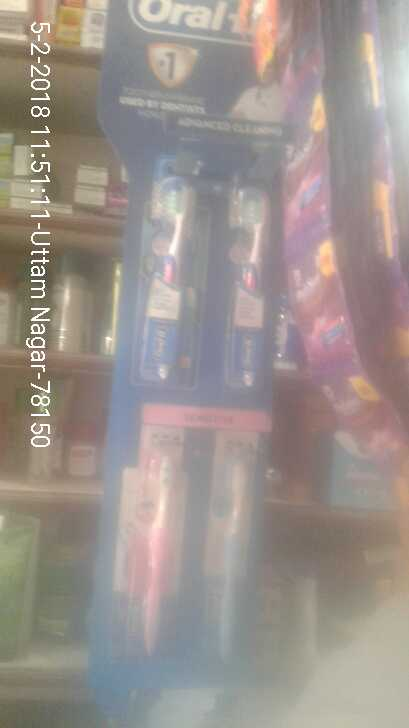oralb: (214, 154, 273, 375), (141, 155, 185, 385)
